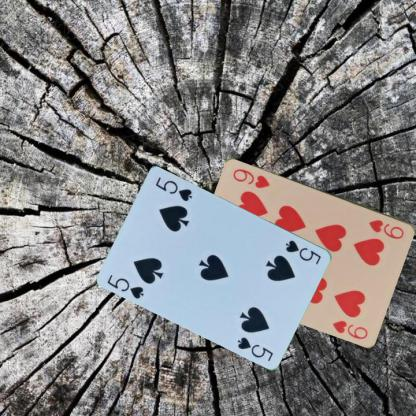5s: (283, 237, 323, 266), (105, 272, 146, 300)
9h: (366, 217, 406, 240)
